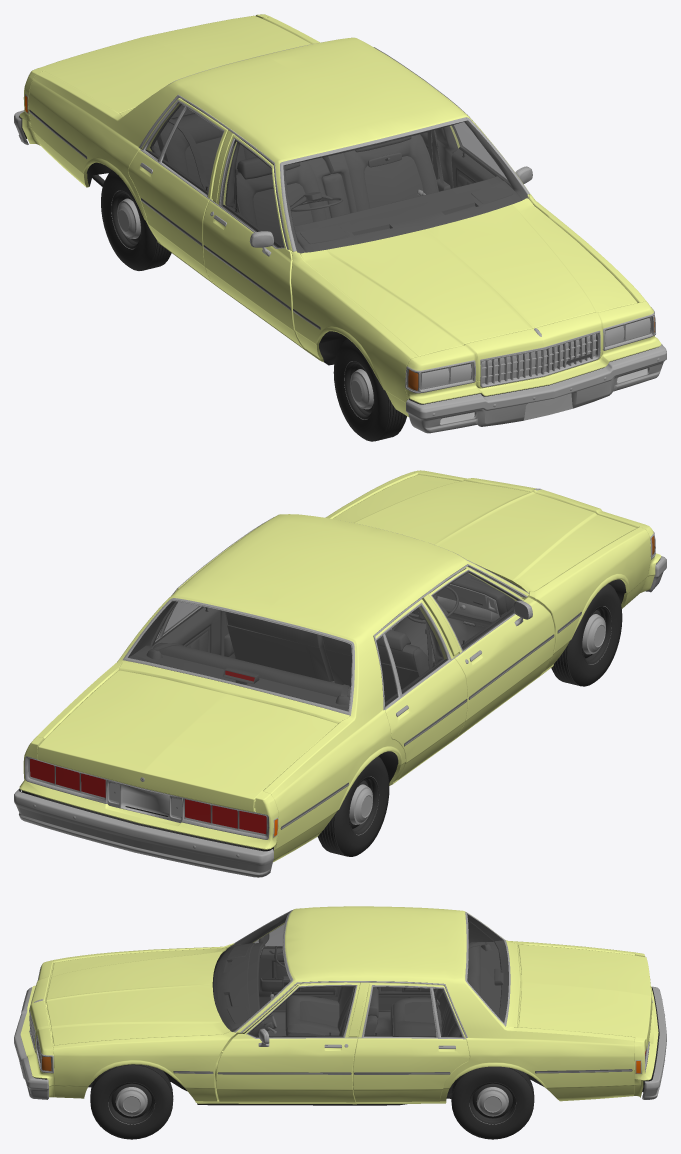
File: Chevy.fbx
The picture shows the model from 3 angles, top to bottom: view 1: azimuth 30°, elevation 25°; view 2: azimuth 150°, elevation 25°; view 3: azimuth 270°, elevation 25°; orthographic projection. The views are drawn at different scales.
Visible parts, largest first — view 1: kuzov, kapot, lob, doorPP, bagg, doorZP, bumpP, wheel004, wheel003, doorPL; view 2: kuzov, bagg, kapot, doorPP, doorZP, bumpZ, wheel004, wheel003, doorZL; view 3: kuzov, kapot, doorPL, doorZL, bagg, lob, wheel001, wheel002, doorPP, bumpZ, bumpP, doorZP.
Boxes of the visible parts, x1,y1,x2,y2 form: kuzov: (19,14,661,416); kapot: (300,198,637,356); lob: (284,121,528,253); doorPP: (202,134,304,348); bagg: (39,15,311,113); doorZP: (128,98,227,283); bumpP: (406,344,666,433); wheel004: (333,338,406,441); wheel003: (101,170,171,270); doorPL: (450,122,532,190); kuzov: (19,470,661,862); bagg: (37,670,337,812); kapot: (333,474,636,592); doorPP: (428,568,555,739); doorZP: (375,599,467,779); bumpZ: (14,788,273,877); wheel004: (551,583,622,686); wheel003: (317,756,389,856); doorZL: (153,602,220,654); kuzov: (20,906,658,1105); kapot: (46,946,230,1045); doorPL: (216,983,359,1102); doorZL: (353,983,469,1101); bagg: (518,944,652,1048); lob: (214,913,289,1031); wheel001: (90,1064,173,1139); wheel002: (451,1066,534,1139); doorPP: (253,923,338,1010); bumpZ: (642,986,666,1099); bumpP: (14,987,48,1099); doorZP: (377,987,437,1010).
Size of the model in its own units: 226 by 157 by 585.
